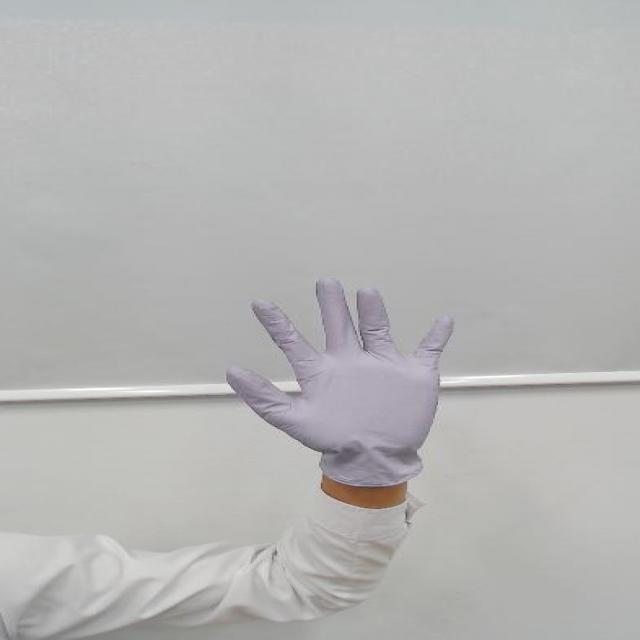with_gloves: (198, 246, 496, 468)
